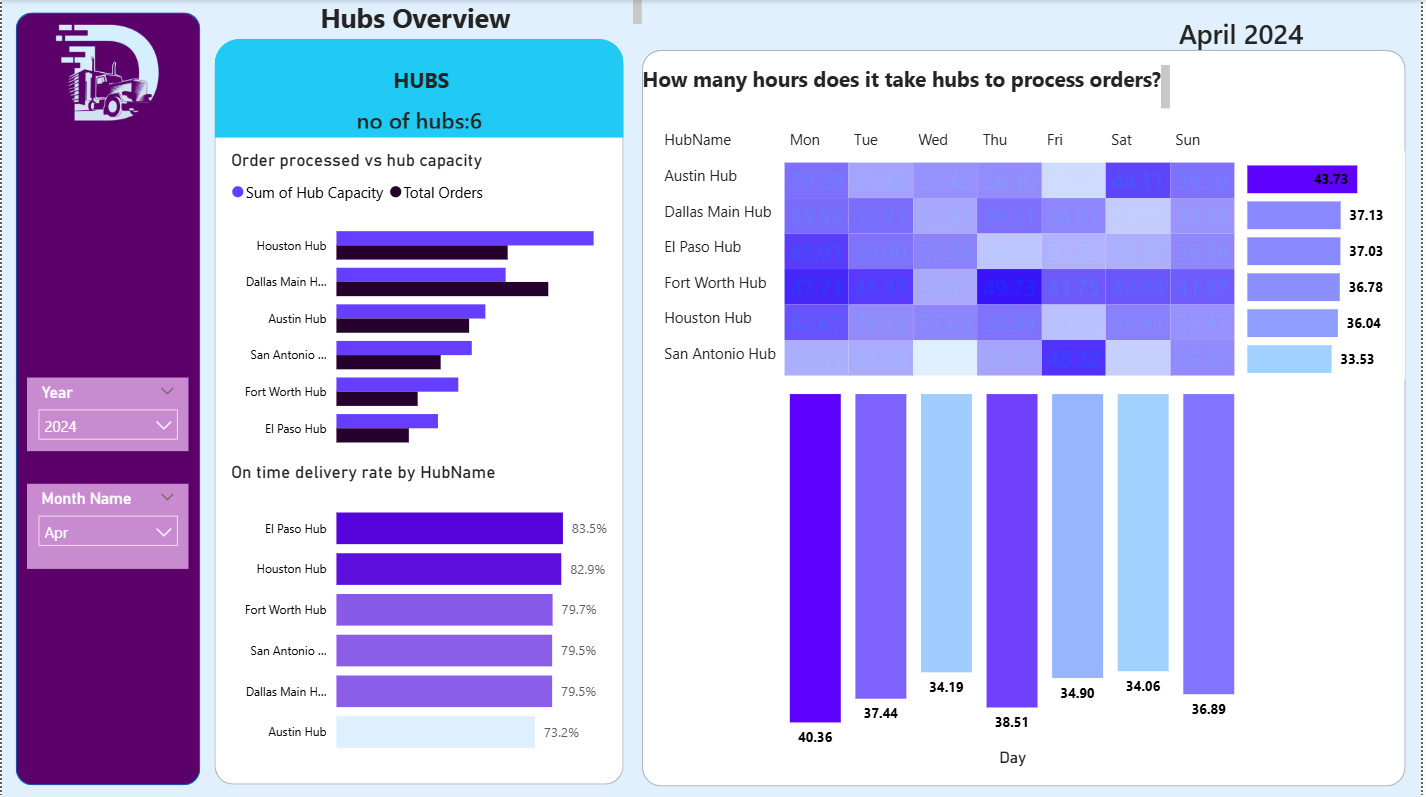

The page's visual inventory and layout, read from the dashboard file:
{"tool":"powerbi","page":{"name":"Hubs Overview","canvas":[1280,720],"ordinal":2},"visuals":[{"type":"shape","box":[12.8,11.4,166.4,696.9],"z":4000},{"type":"textbox","box":[177.5,0,399.6,33.2],"z":5000},{"type":"slicer","fields":{"Values":["Date Table.Year"]},"box":[23.1,340.6,145.7,66.4],"z":6000},{"type":"slicer","fields":{"Values":["Date Table.Month Name"]},"box":[23.1,435.8,145.7,76.5],"z":7000},{"type":"image","box":[0,12.2,192,113.7],"z":8000},{"type":"cardVisual","fields":{"Data":["Date Table.Selected Month-Year"]},"box":[986.5,0,262.7,58],"z":9000},{"type":"shape","box":[192,45.6,368.9,662.5],"z":9001,"group":"g1"},{"type":"shape","box":[192,35.5,369.2,89.2],"z":9002,"group":"g1"},{"type":"textbox","box":[193.3,59.9,370.4,47.7],"z":9003,"group":"g1"},{"type":"cardVisual","fields":{"Data":["Hubs.Total Hubs"]},"box":[286.9,80.7,180.7,53.8],"z":9004,"group":"g1"},{"type":"clusteredBarChart","title":"Order processed vs hub capacity","fields":{"Category":["Hubs.HubName"],"Y":["Sum(Hubs.Hub Capacity)","Orders.Total Orders"]},"box":[201.9,135.4,349.1,282.6],"z":9005,"group":"g1"},{"type":"clusteredBarChart","title":"On time delivery rate by HubName","fields":{"Category":["Hubs.HubName"],"Y":["Orders.PM On-Time Delivery %"]},"box":[201.9,418,349.1,278.1],"z":9006,"group":"g1"},{"type":"group","id":"g1","title":"Group 1","box":[192,35.5,371.7,672.6],"z":9007},{"type":"shape","box":[577.2,45.2,688.5,664],"z":9008},{"type":"pivotTable","fields":{"Rows":["Hubs.HubName"],"Columns":["Date Table.Day"],"Values":["Orders.Avg Delivery Time (hrs)"]},"box":[587.3,108,530.8,269.9],"z":9009},{"type":"columnChart","fields":{"Category":["Date Table.Day"],"Y":["Orders.Avg Delivery Time (hrs)"]},"box":[705.6,341.2,412.1,354.6],"z":9010},{"type":"barChart","fields":{"Category":["Hubs.HubName"],"Y":["Orders.Avg Delivery Time (hrs)"]},"box":[1117.6,135.9,147.5,206],"z":9011},{"type":"textbox","box":[577,58.4,476.2,40.9],"z":9012}]}

Visuals, with their boxes in screenshot pixels (x1, y1, x2, y2), scaled from the page's 1280x720 canvas onto the 1426x797 screenshot:
shape: [14,13,200,784]
textbox: [198,0,643,37]
slicer - Date Table.Year: [26,377,188,451]
slicer - Date Table.Month Name: [26,482,188,567]
image: [0,14,214,139]
cardVisual - Date Table.Selected Month-Year: [1099,0,1392,64]
shape: [214,50,625,784]
shape: [214,39,625,138]
textbox: [215,66,628,119]
cardVisual - Hubs.Total Hubs: [320,89,521,149]
"Order processed vs hub capacity" clusteredBarChart: [225,150,614,463]
"On time delivery rate by HubName" clusteredBarChart: [225,463,614,771]
"Group 1" group: [214,39,628,784]
shape: [643,50,1410,785]
pivotTable - Hubs.HubName x Date Table.Day: [654,120,1246,418]
columnChart - Date Table.Day x Orders.Avg Delivery Time (hrs): [786,378,1245,770]
barChart - Hubs.HubName x Orders.Avg Delivery Time (hrs): [1245,150,1409,378]
textbox: [643,65,1173,110]
